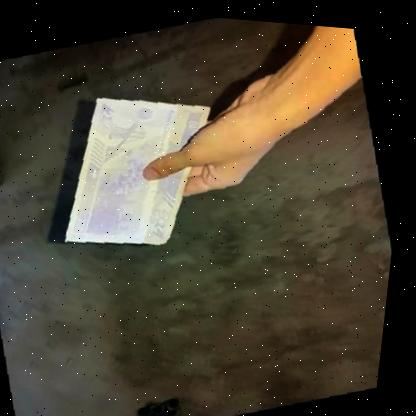two_hundred-back-vef: (38, 73, 214, 263)
